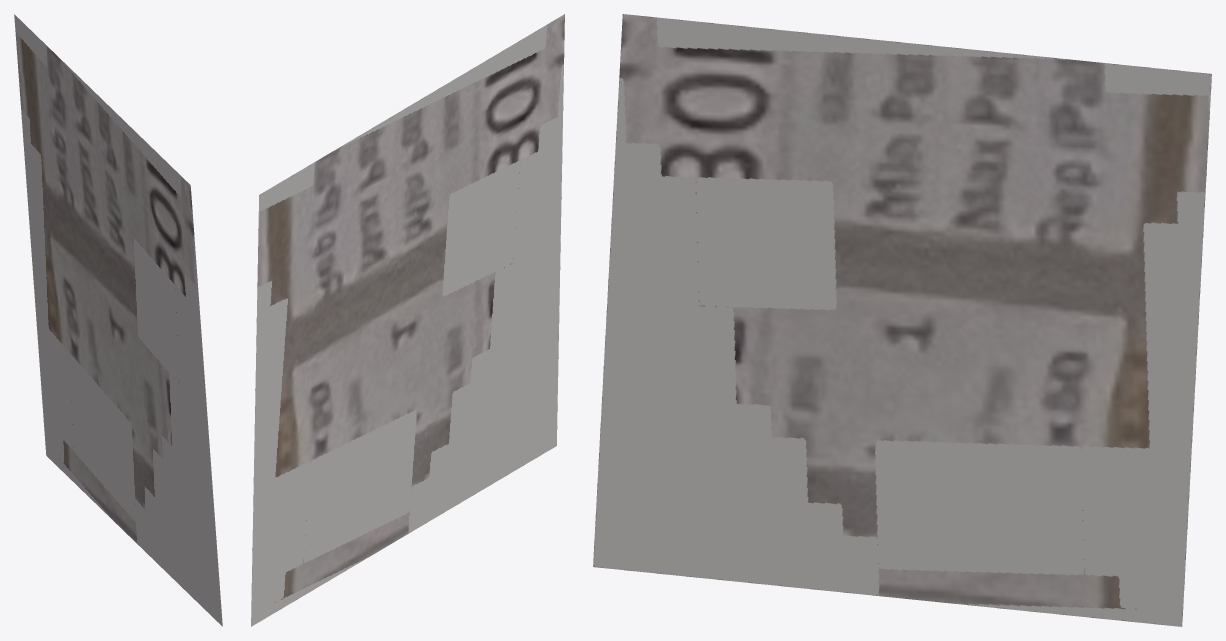
The model's file is entity-sign-9.glb.
The picture shows the model from 3 angles, left to right: view 1: azimuth 30°, elevation 25°; view 2: azimuth 150°, elevation 25°; view 3: azimuth 270°, elevation 25°; orthographic projection. The views are drawn at different scales.
Parts seen in each view (by area): view 1: geometry_0; view 2: geometry_0; view 3: geometry_0.
Boxes of the visible parts, bbox=[...] form: geometry_0: bbox=[14, 14, 222, 626]; geometry_0: bbox=[251, 14, 564, 626]; geometry_0: bbox=[593, 14, 1211, 626].
Size of the model in its own units: 0.0385 by 0.2052 by 0.2042.
1 material, 1 textured.
